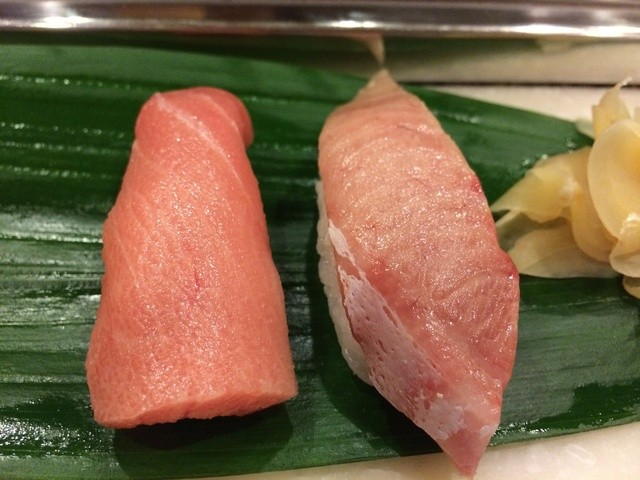medium_fatty_tuna: (95, 77, 295, 423)
